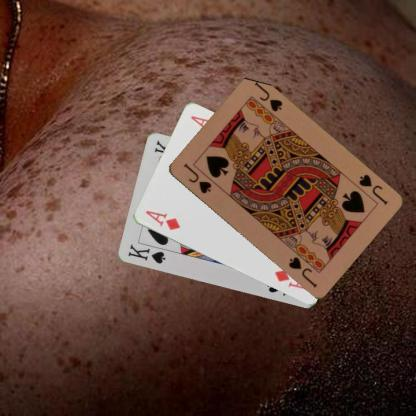Ad: (142, 208, 181, 232)
Js: (355, 172, 389, 206), (180, 160, 213, 195)
Ks: (125, 242, 166, 265)
